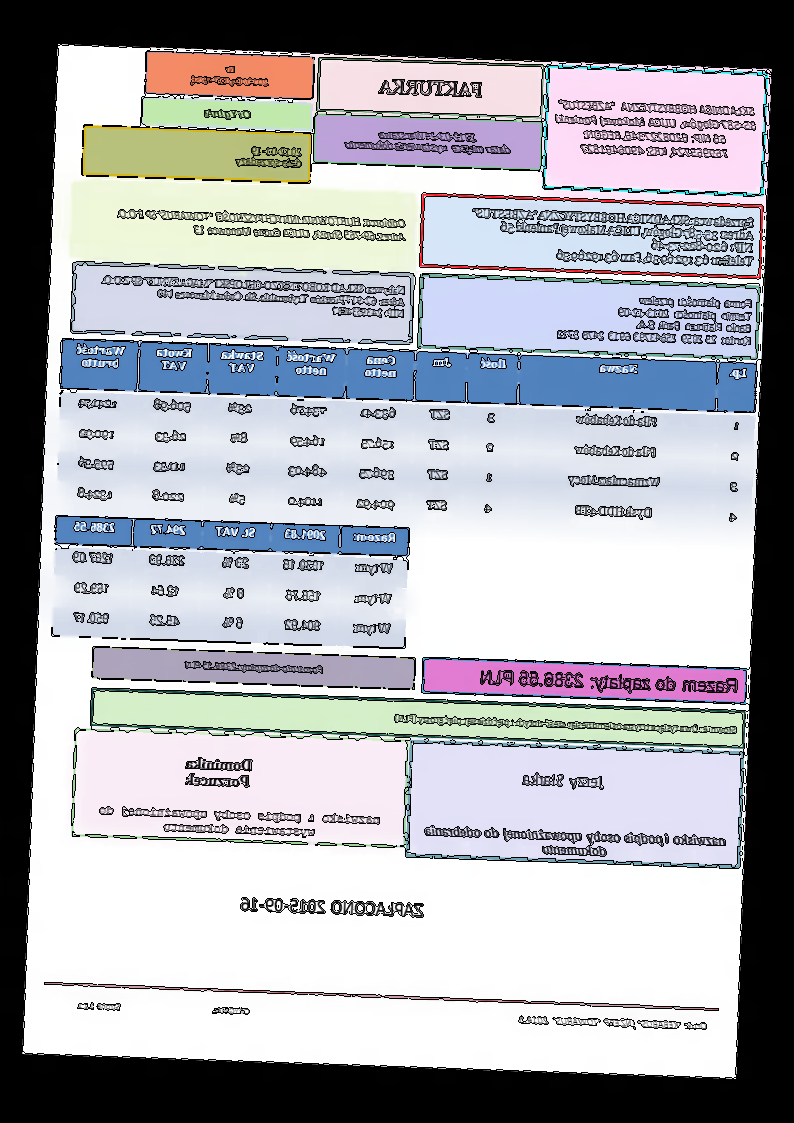Table: (54, 336, 759, 537), (50, 512, 412, 651)
TextBox: (467, 202, 758, 272), (99, 271, 409, 321), (551, 96, 761, 163), (553, 288, 755, 350), (421, 823, 728, 863), (95, 801, 384, 842), (114, 205, 408, 245), (391, 710, 739, 739), (479, 666, 740, 696), (342, 125, 515, 158), (236, 893, 427, 920), (515, 1011, 709, 1034), (74, 997, 254, 1019), (180, 753, 256, 792), (182, 657, 326, 677), (378, 75, 486, 100), (188, 60, 273, 90), (519, 768, 609, 794), (234, 141, 304, 171), (202, 103, 254, 123)
